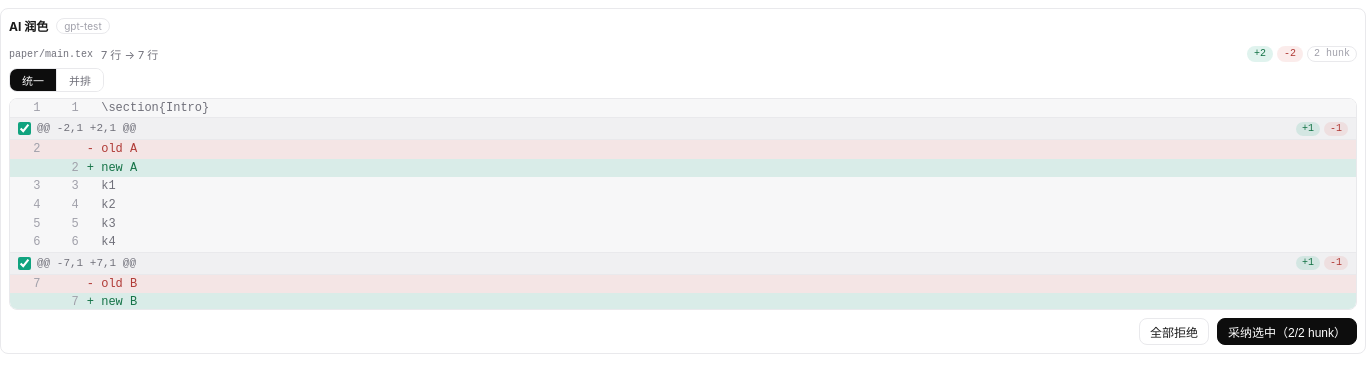
DiffApprovalCard2 · hunk 级采纳 › 全不选时采纳按钮禁用
Click the checkbox labelled "@@ -2,1 +2,1 @@": (24,129) [18,122,31,135]
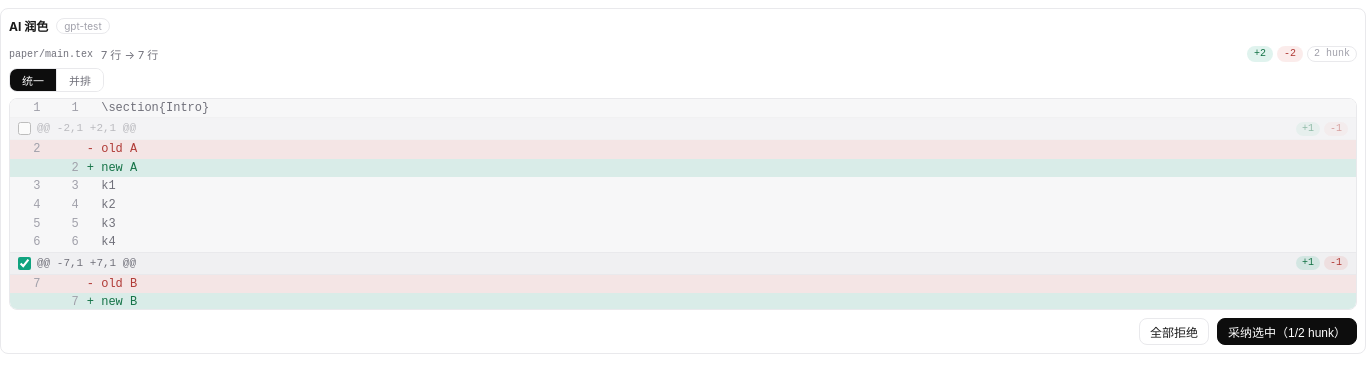
Click the checkbox labelled "@@ -7,1 +7,1 @@": (24,263) [18,257,31,270]
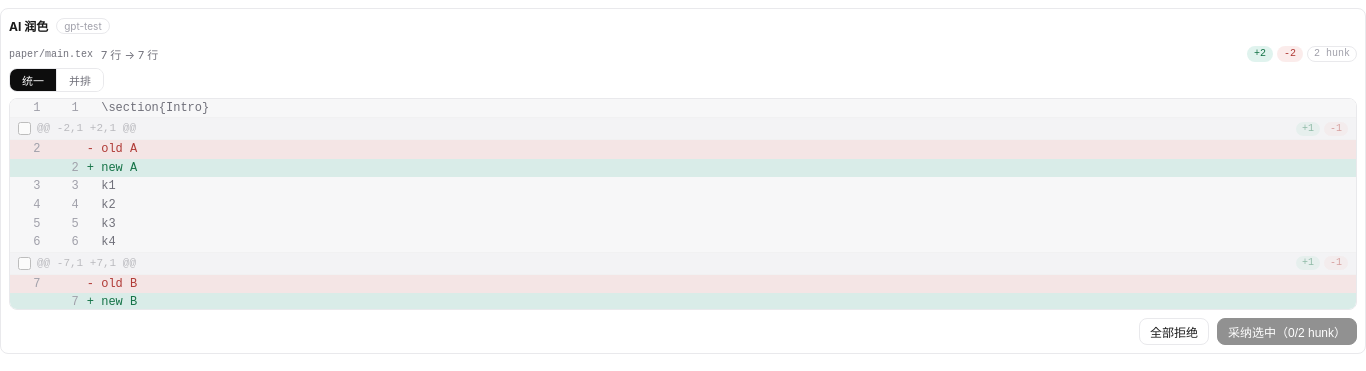
Result: the button with class "sf-approval-accept" shows "0/2" at [1217,318,1357,345]
Result: the button with class "sf-approval-accept" is disabled at [1217,318,1357,345]
